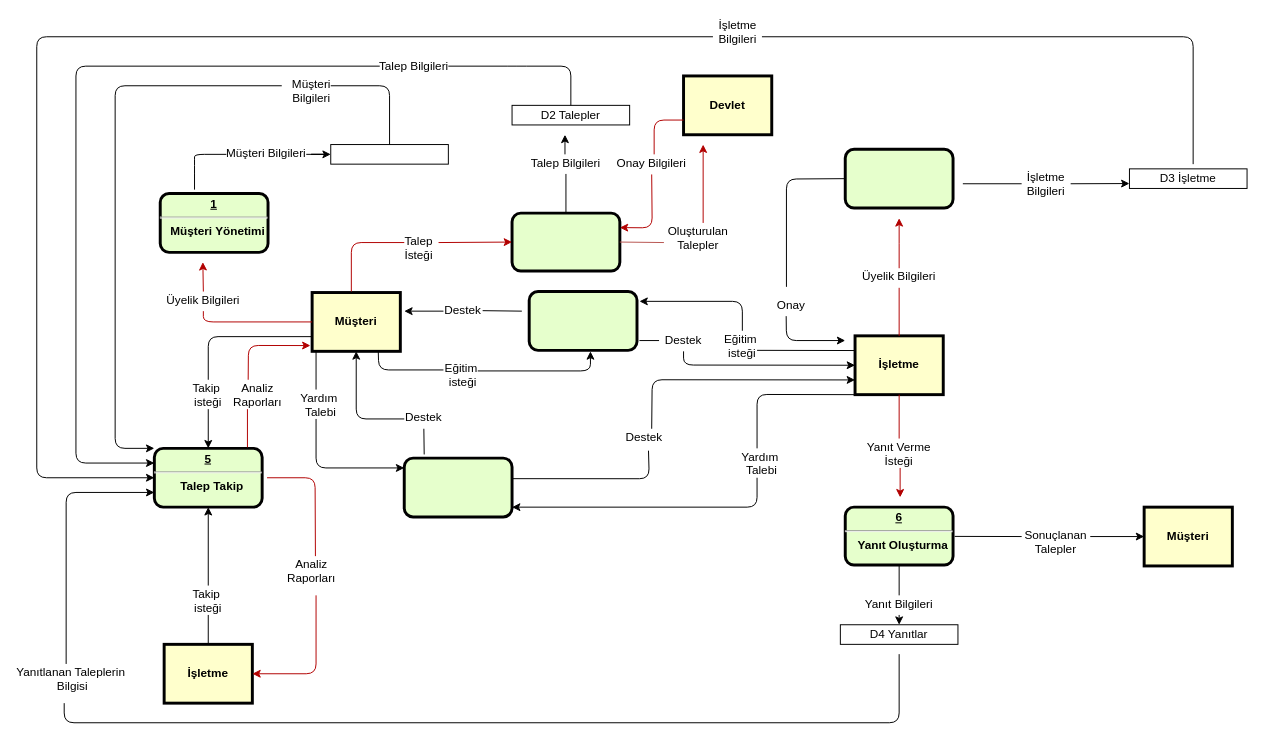
Image size: 1264x741. Some labels were removed from this diagram. Here are the shapes that lost their labels. From the top down, the centre of each, then its label:
[389,154]: D1 Müşteri
[898,178]: 7 İşletme Yönetimi
[565,241]: 2 Talep Oluşturma
[582,320]: 3 Eğitim
[457,487]: 4 Yardım
